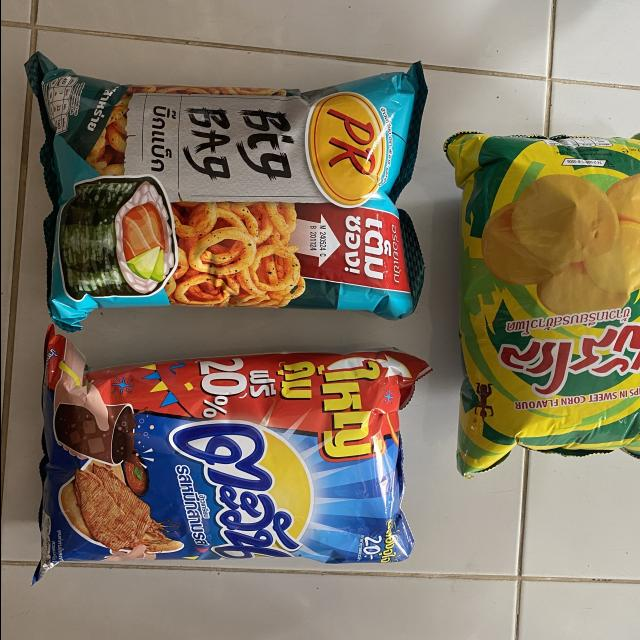plastik: (25, 52, 426, 331), (33, 326, 430, 580), (444, 132, 640, 476)
